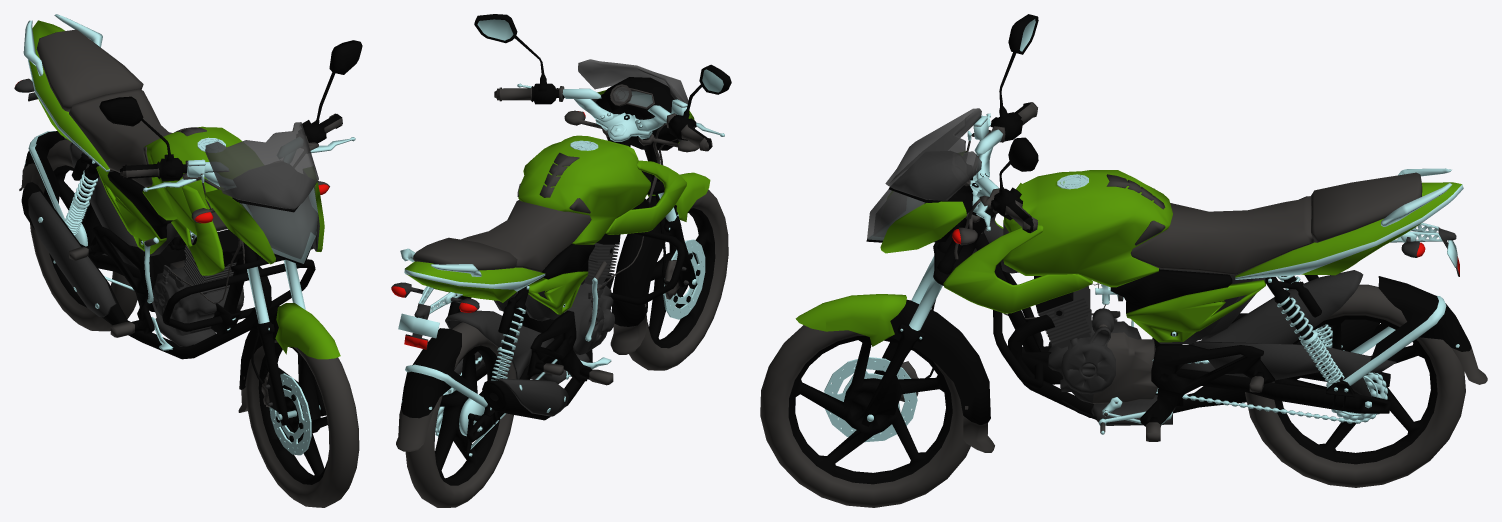
Rendered from pulsar-real.glb.
The picture shows the model from 3 angles, left to right: view 1: azimuth 30°, elevation 25°; view 2: azimuth 150°, elevation 25°; view 3: azimuth 270°, elevation 25°; orthographic projection. The views are drawn at different scales.
Visible parts, largest first — view 1: chasis.000_0, Cube.033_0, chasis.014_3; view 2: chasis.000_0, Cube.033_0, chasis.014_3; view 3: chasis.000_0, Cube.033_0, chasis.014_3.
Part boxes in pixels (x1,y1,x2,y2): chasis.000_0: (19, 14, 359, 507); Cube.033_0: (14, 40, 362, 359); chasis.014_3: (205, 122, 318, 263); chasis.000_0: (396, 77, 728, 507); Cube.033_0: (391, 14, 731, 437); chasis.014_3: (578, 59, 688, 107); chasis.000_0: (760, 151, 1487, 507); Cube.033_0: (933, 14, 1459, 434); chasis.014_3: (867, 108, 981, 240).
Bounding box in the file's own units: 4.42 × 6.12 × 9.49.
4 materials, 4 textured.
